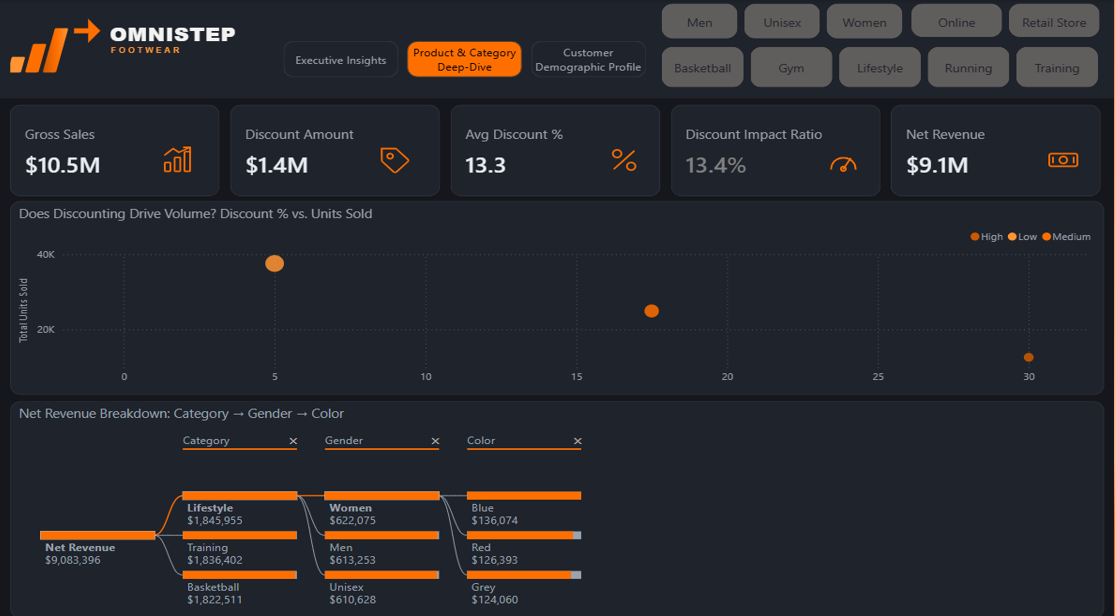

What the dashboard file says about the page in this screenshot:
{"tool":"powerbi","page":{"name":"Product & Category Deep-Dive","canvas":[1280,784],"ordinal":1},"visuals":[{"type":"shape","box":[0,0,1280.2,124.8],"z":0},{"type":"cardVisual","fields":{"Data":["Measures Table.Gross Sales","Measures Table.Total Discount Amount","Measures Table.Average Discount %","Measures Table.Discount Impact Rate","Measures Table.Net Revenue"]},"box":[0,115.8,1280,150.5],"z":1000},{"type":"image","box":[16.7,0,299.8,124.8],"z":2000},{"type":"advancedSlicerVisual","fields":{"Values":["ProductDim.category"]},"box":[754.9,54.8,509,61.5],"z":3000},{"type":"decompositionTreeVisual","title":"Net Revenue Breakdown: Category → Gender → Color","fields":{"ExplainBy":["ProductDim.category","ProductDim.gender","ProductDim.color"],"Analyze":["Measures Table.Net Revenue"]},"box":[17.4,509,1246.6,275.2],"z":4000},{"type":"scatterChart","title":"Does Discounting Drive Volume? Discount % vs. Units Sold","fields":{"Y":["Measures Table.Total Units Sold"],"Size":["Measures Table.Net Revenue"],"Series":["SalesDim.Discount Category"],"X":["Measures Table.Average Discount %"]},"box":[16.7,254.8,1246.8,245.7],"z":5000},{"type":"advancedSlicerVisual","fields":{"Values":["ProductDim.gender"]},"box":[754.9,0,284.6,54.8],"z":6000},{"type":"advancedSlicerVisual","fields":{"Values":["SalesDim.sales_channel"]},"box":[1039.5,0,224.5,52.1],"z":7000},{"type":"pageNavigator","box":[328.1,52.8,414.3,46.3],"z":8000},{"type":"image","box":[1191.8,183,50.8,40.1],"z":9000},{"type":"image","box":[692.2,182.7,50.2,39.9],"z":10000},{"type":"image","box":[183,183,49.4,40.1],"z":11000},{"type":"image","box":[430.2,183,49.4,40.1],"z":12000},{"type":"image","box":[941.9,183,49.4,40.1],"z":13000}]}

Visuals, with their boxes on the page's 1280x784 design canvas (x1, y1, x2, y2). These are canvas units, not pixel positions in the 1115x616 screenshot, which may show the page scaled, cropped or inside an application window:
shape: [0, 0, 1280, 125]
cardVisual - Measures Table.Gross Sales x Measures Table.Total Discount Amount: [0, 116, 1280, 266]
image: [17, 0, 316, 125]
advancedSlicerVisual - ProductDim.category: [755, 55, 1264, 116]
"Net Revenue Breakdown: Category → Gender → Color" decompositionTreeVisual: [17, 509, 1264, 784]
"Does Discounting Drive Volume? Discount % vs. Units Sold" scatterChart: [17, 255, 1264, 500]
advancedSlicerVisual - ProductDim.gender: [755, 0, 1040, 55]
advancedSlicerVisual - SalesDim.sales_channel: [1040, 0, 1264, 52]
pageNavigator: [328, 53, 742, 99]
image: [1192, 183, 1243, 223]
image: [692, 183, 742, 223]
image: [183, 183, 232, 223]
image: [430, 183, 480, 223]
image: [942, 183, 991, 223]
